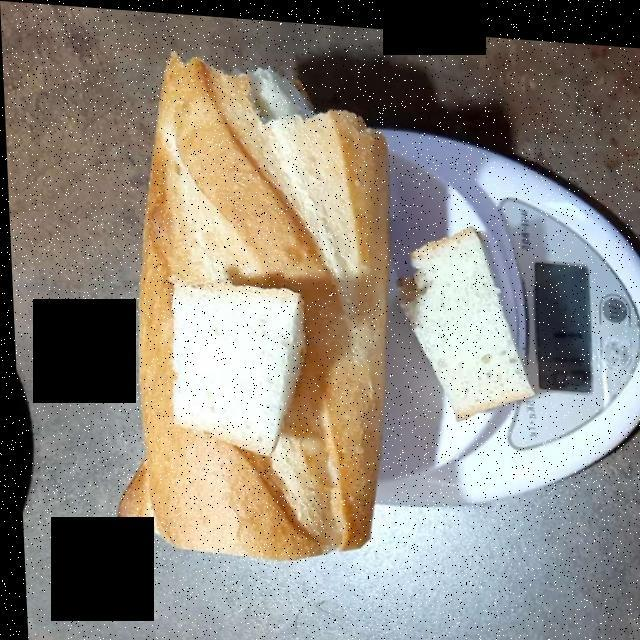bread: (114, 60, 531, 550)
